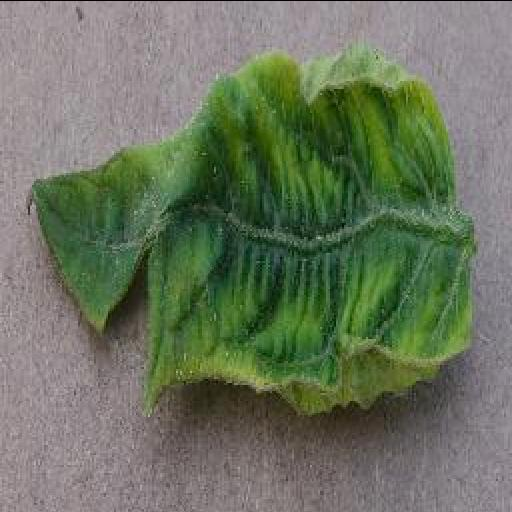disease_tomato: (26, 42, 476, 412)
